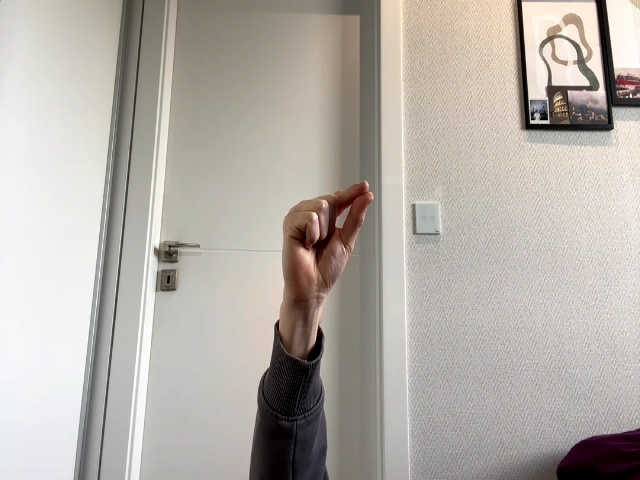P: (284, 181, 373, 296)
